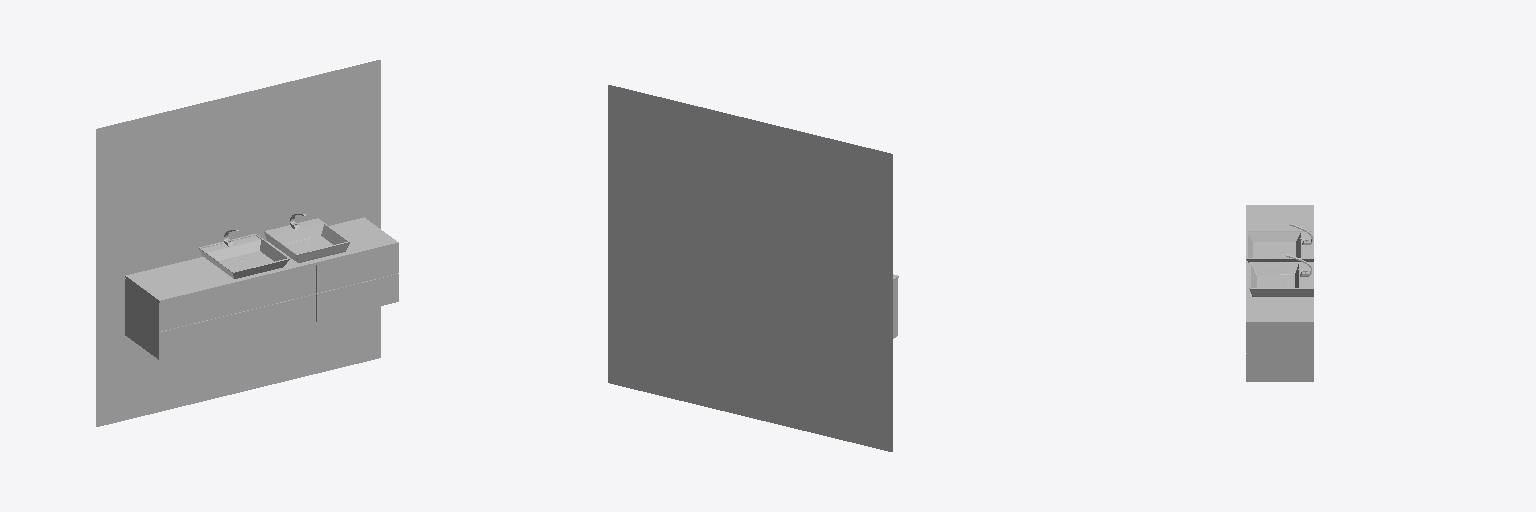
Rendered from WaterTap (Modern).obj.
3 renders of one model, left to right at view 1: azimuth 30°, elevation 25°; view 2: azimuth 150°, elevation 25°; view 3: azimuth 270°, elevation 25°, orthographic.
Visible parts, largest first — view 1: Plane.002_Plane.003, Cube_Cube.008, Plane.001_Plane.002, Cube.004_Cube.006, Cube.002_Cube.001; view 2: Plane.002_Plane.003, Cube_Cube.008; view 3: Cube_Cube.008, Plane.001_Plane.002, Cube.004_Cube.006, Cube.002_Cube.001.
Part boxes in pixels (bbox=[...]): Plane.002_Plane.003: bbox=[96, 60, 380, 426]; Cube_Cube.008: bbox=[125, 245, 398, 359]; Plane.001_Plane.002: bbox=[125, 217, 398, 302]; Cube.004_Cube.006: bbox=[264, 213, 349, 262]; Cube.002_Cube.001: bbox=[199, 234, 289, 278]; Plane.002_Plane.003: bbox=[608, 85, 892, 451]; Cube_Cube.008: bbox=[666, 273, 897, 357]; Cube_Cube.008: bbox=[1246, 325, 1313, 381]; Plane.001_Plane.002: bbox=[1246, 205, 1313, 324]; Cube.004_Cube.006: bbox=[1249, 255, 1313, 296]; Cube.002_Cube.001: bbox=[1246, 231, 1313, 262].
Bounding box in the file's own units: 10.48 × 10.48 × 2.19.